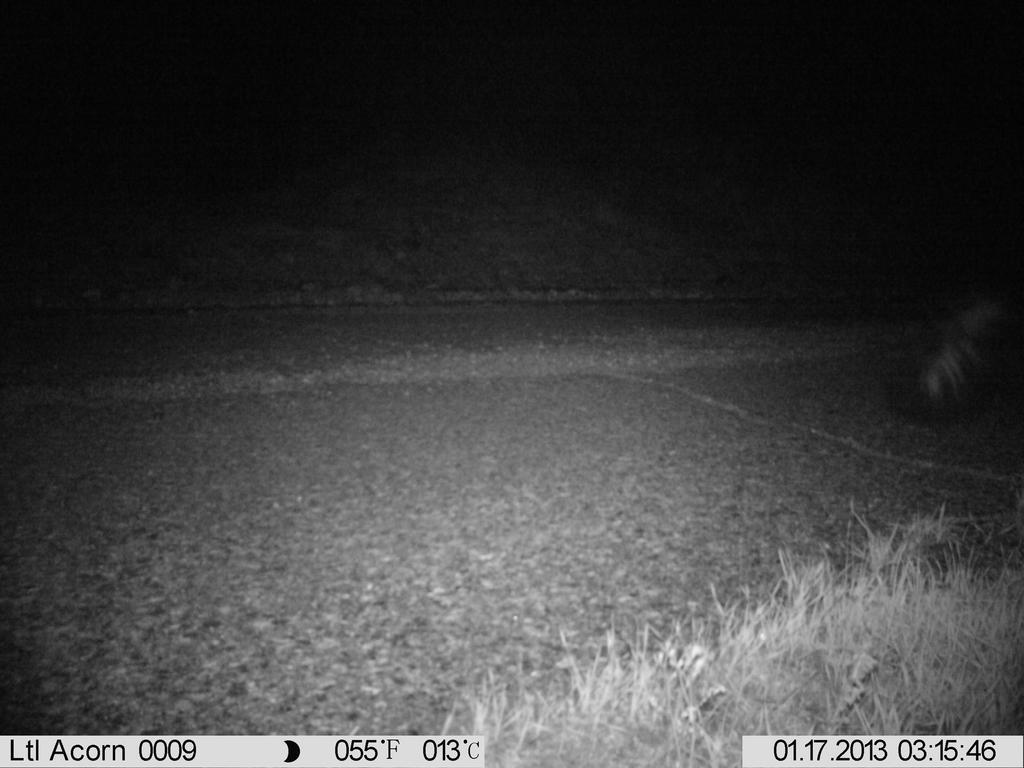skunk: (897, 285, 1023, 425)
